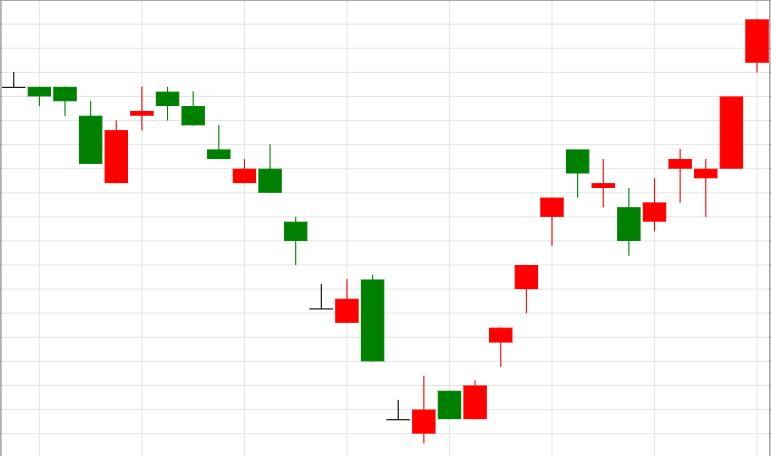inverse_hammer_rise: (258, 144, 436, 445)
